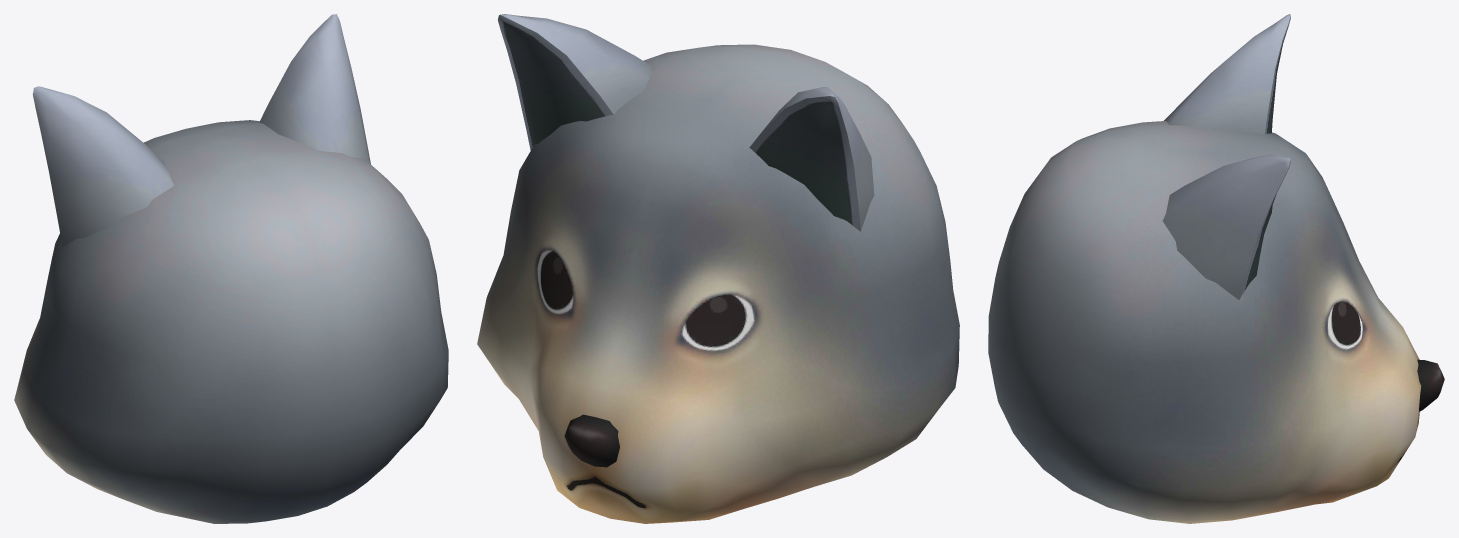
Rendered from Wolf.glb.
The picture shows the model from 3 angles, left to right: view 1: azimuth 30°, elevation 25°; view 2: azimuth 150°, elevation 25°; view 3: azimuth 270°, elevation 25°; orthographic projection. The views are drawn at different scales.
Visible parts, largest first — view 1: Wolf; view 2: Wolf; view 3: Wolf.
Boxes of the visible parts, x1,y1,x2,y2 form: Wolf: [14, 14, 448, 523]; Wolf: [477, 14, 959, 523]; Wolf: [988, 14, 1444, 523].
Size of the model in its own units: 0.8408 by 0.8653 by 0.876.
1 material, 1 textured.
